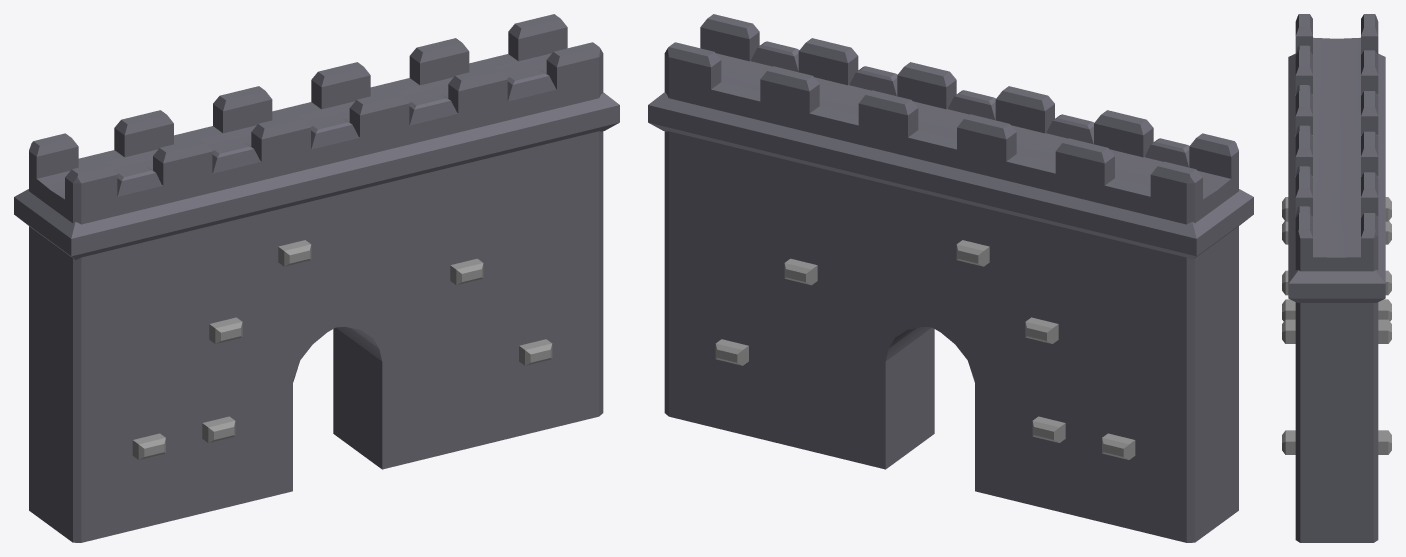
File: StoneWall_Gate.fbx
3 views of the same model, side by side, from view 1: azimuth 30°, elevation 25°; view 2: azimuth 150°, elevation 25°; view 3: azimuth 270°, elevation 25° (orthographic). The views are drawn at different scales.
Visible parts, largest first — view 1: Cube.061; view 2: Cube.061; view 3: Cube.061.
Boxes of the visible parts, x1,y1,x2,y2 form: Cube.061: (14, 14, 619, 542); Cube.061: (648, 14, 1253, 542); Cube.061: (1282, 14, 1391, 542).
Size of the model in its own units: 3054 by 1957 by 625.
